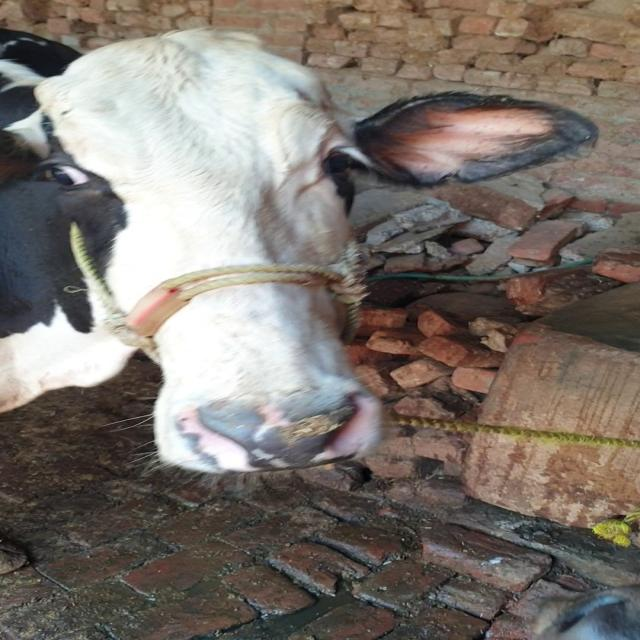cowFace: (16, 44, 421, 475)
